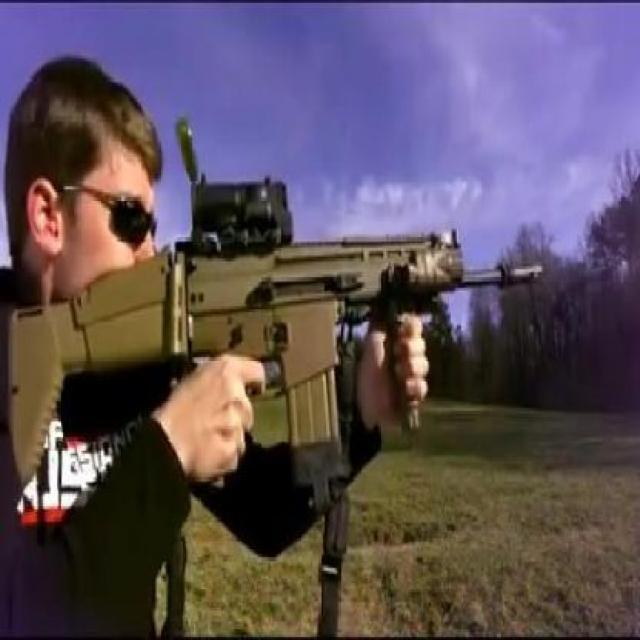Rifle: (0, 174, 545, 486)
